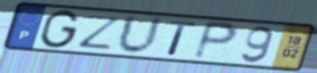9: (239, 25, 275, 64)
G: (36, 8, 82, 50)
P: (191, 19, 242, 62)
T: (166, 19, 198, 57)
U: (114, 13, 166, 57)
Z: (77, 14, 125, 51)
